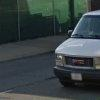Car: (50, 7, 100, 86)
